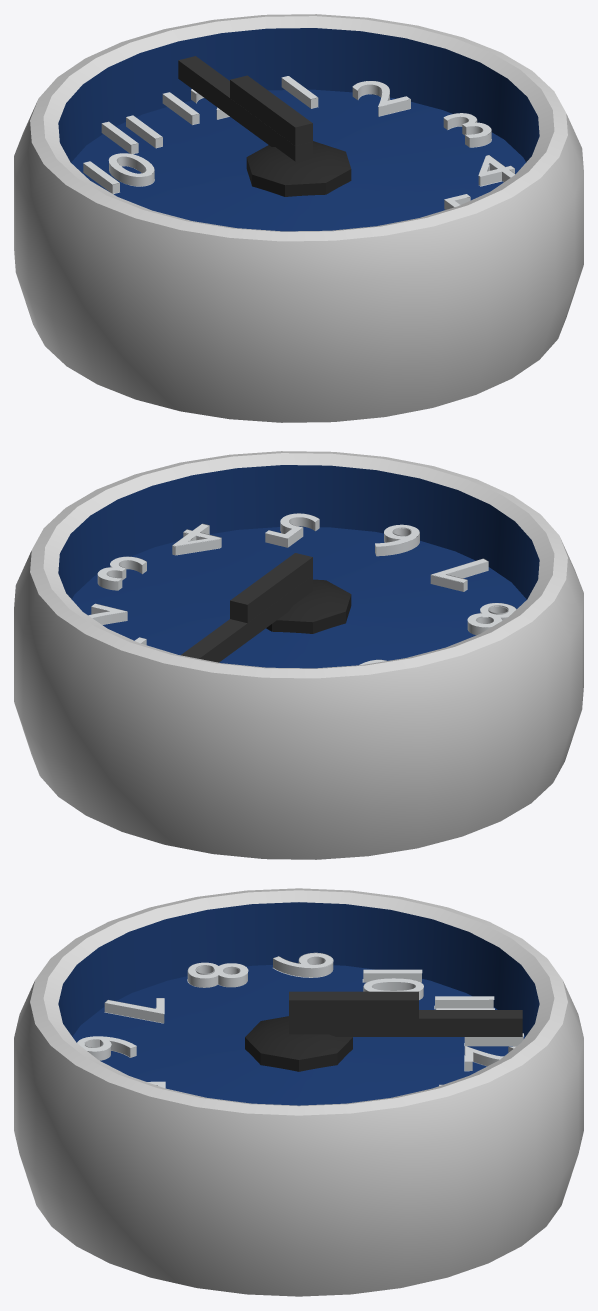
Rendered from Clock.fbx.
3 views of the same model, one above another, from view 1: azimuth 30°, elevation 25°; view 2: azimuth 150°, elevation 25°; view 3: azimuth 270°, elevation 25° (orthographic).
Parts seen in each view (by area): view 1: base, arrow_long, arrow_short; view 2: base, arrow_long, arrow_short; view 3: base, arrow_long, arrow_short.
Boxes of the visible parts, x1,y1,x2,y2 form: base: [14, 14, 583, 422]; arrow_long: [178, 56, 312, 161]; arrow_short: [230, 75, 312, 145]; base: [14, 451, 583, 859]; arrow_long: [181, 575, 312, 662]; arrow_short: [230, 553, 312, 623]; base: [14, 888, 583, 1296]; arrow_long: [289, 1010, 522, 1036]; arrow_short: [289, 991, 418, 1018].
Size of the model in its own units: 87.25 by 31.69 by 87.25.
